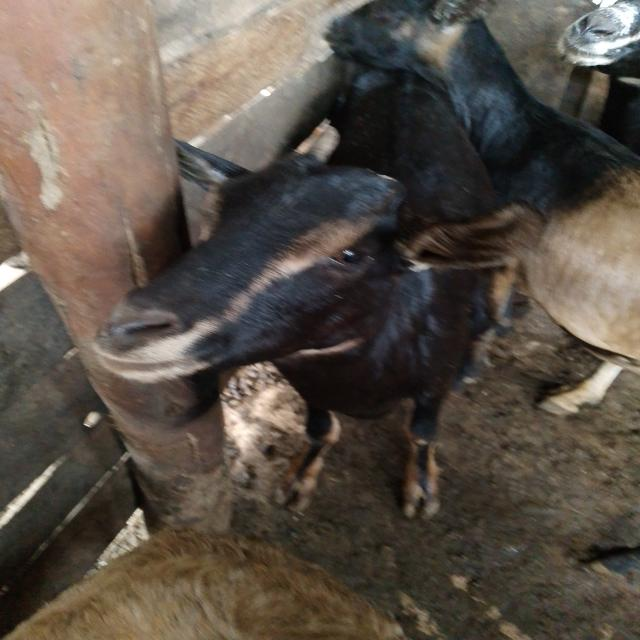goat: (25, 25, 582, 571)
